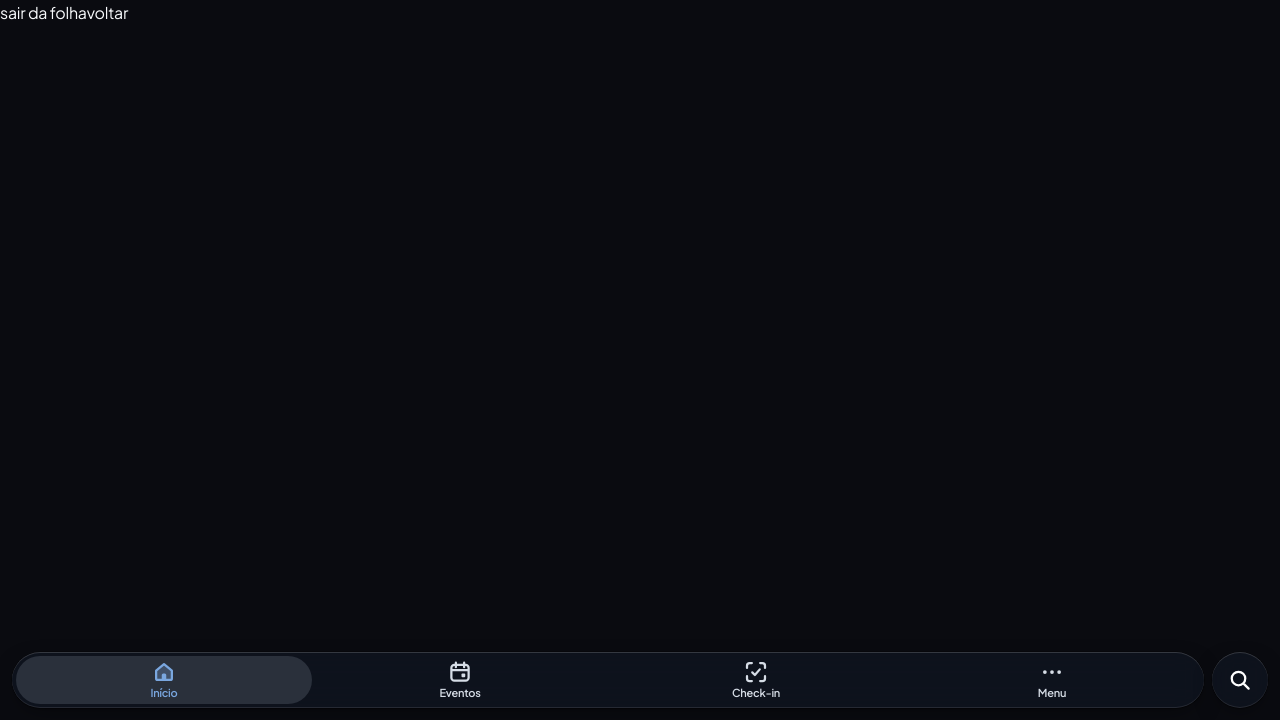
Test: barra inferior do celular (V4b) › a busca abre a folha com o foco no filtro, e o filtro reduz a lista
The width and height of the screenshot is (1280, 720).
Step 1. Click the button named "Buscar tela" → [1240, 680], box [1212,652,1268,708]
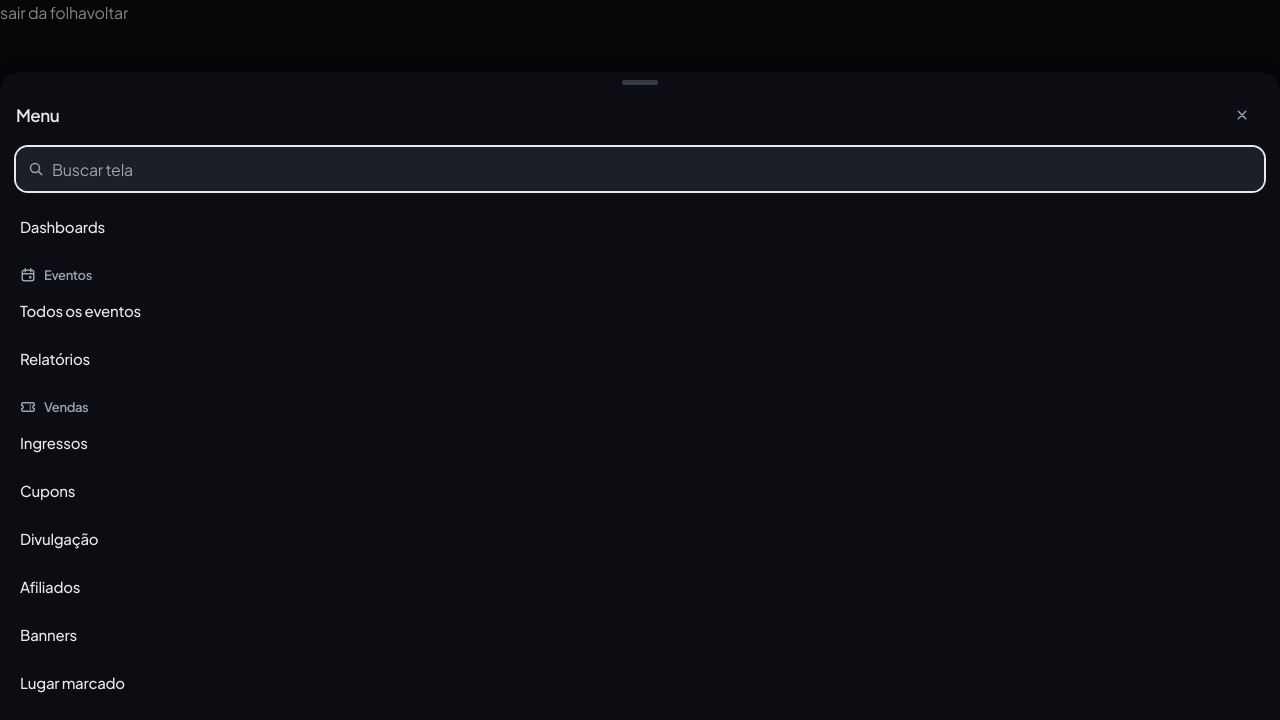
Step 2. Type "orcamento" into the search field labelled "Buscar tela" → [640, 169], box [16,147,1264,191]
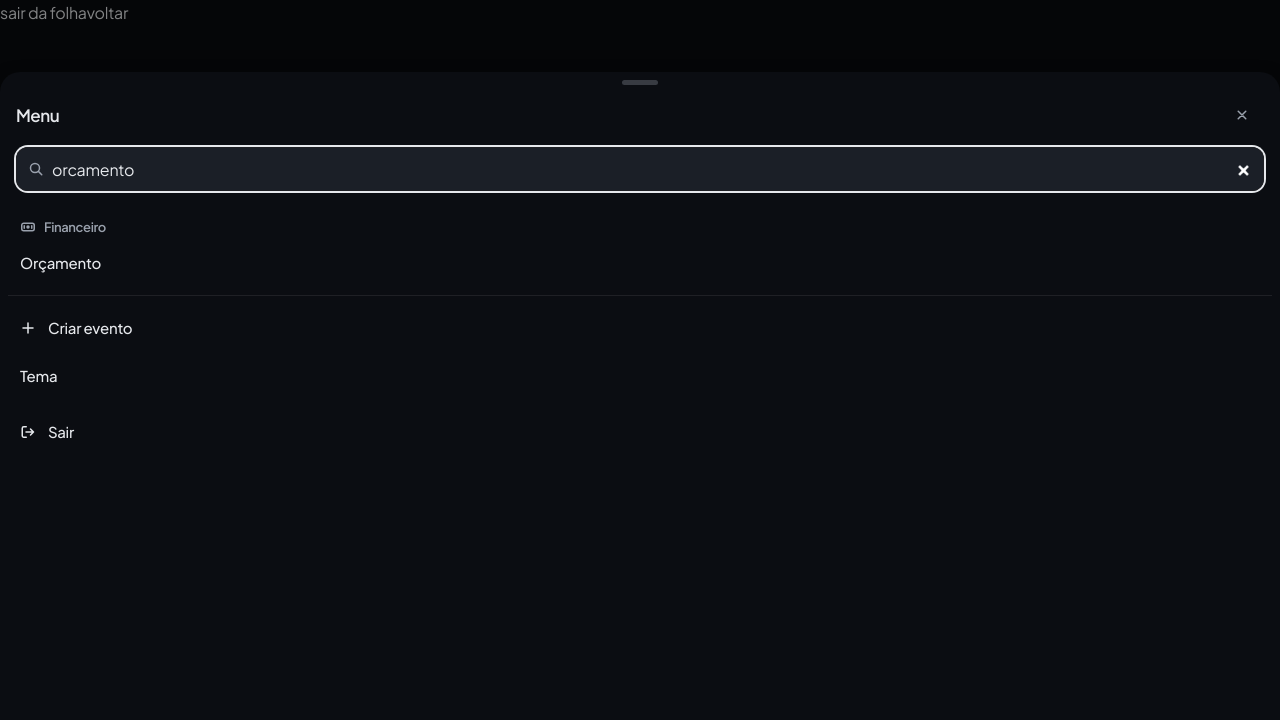
Expected: the link "Orçamento" is shown, [20,253,101,272]
Expected: the link "Cupons" is gone
Step 3. Replace the text in the search field named "Buscar tela" with "zzz" → [640, 169], box [16,147,1264,191]
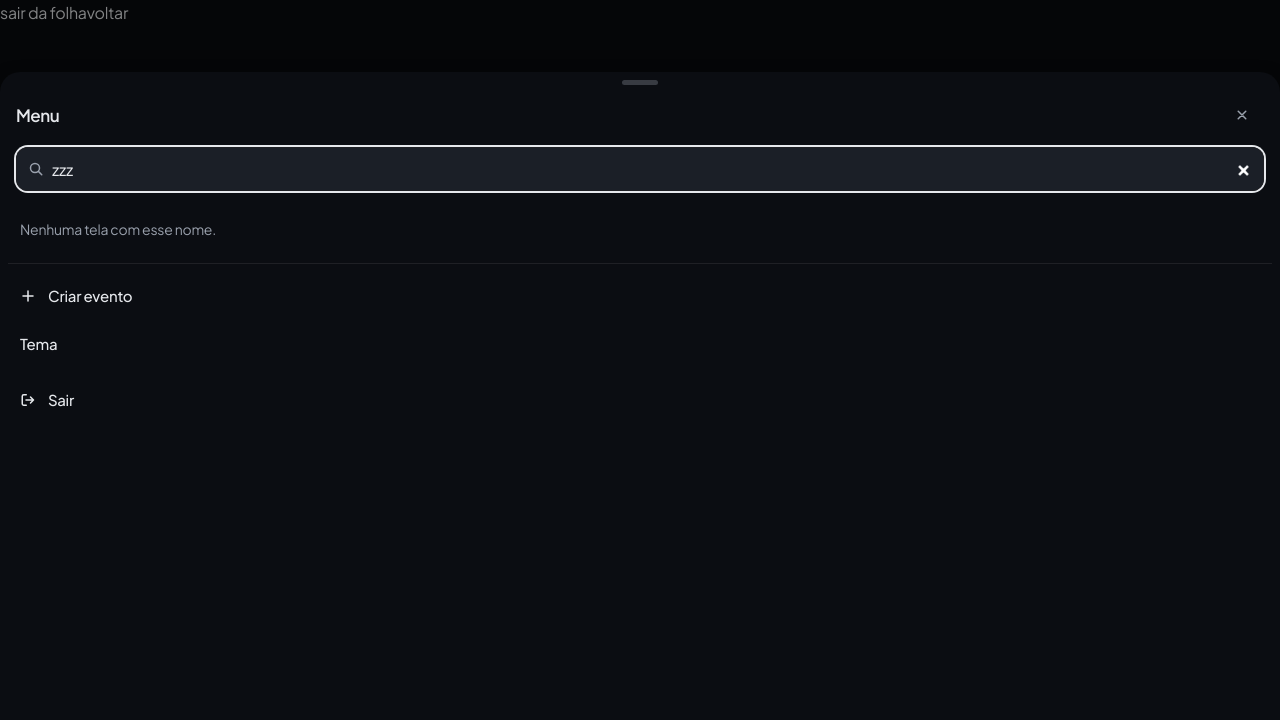
Expected: the link "Criar evento" is shown, [20,286,132,305]
Expected: the button "Sair" is shown, [8,376,1272,424]
Expected: the text "Nenhuma tela com esse nome." is shown, [20,220,216,238]
